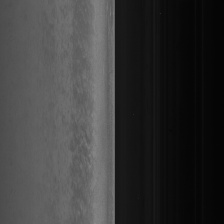silk_spot: (70, 57, 94, 178)
